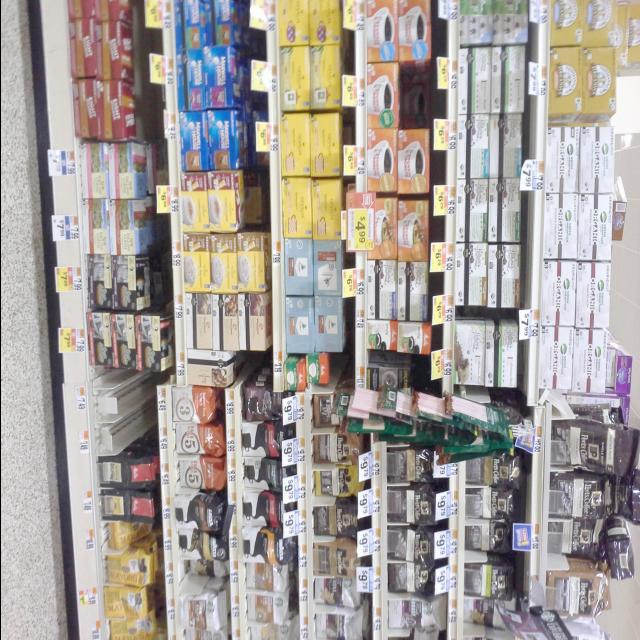empty_space: (108, 402, 149, 454), (111, 371, 152, 417), (398, 69, 431, 124)
